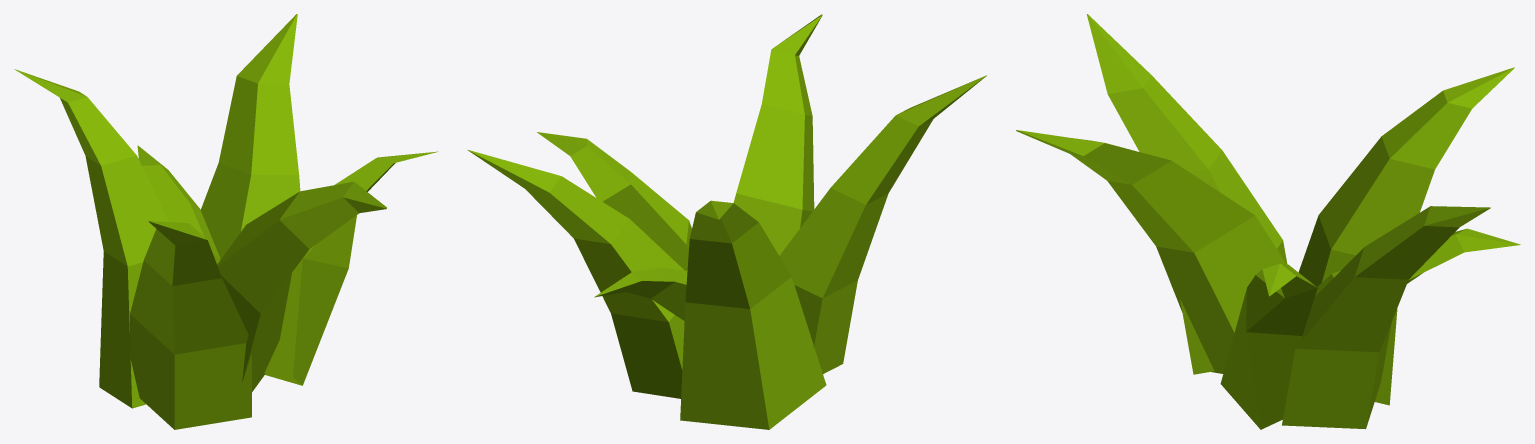
The model's file is Grass2.fbx.
3 renders of one model, left to right at view 1: azimuth 30°, elevation 25°; view 2: azimuth 150°, elevation 25°; view 3: azimuth 270°, elevation 25°, orthographic. The views are drawn at different scales.
Visible parts, largest first — view 1: Cube.003; view 2: Cube.003; view 3: Cube.003.
Boxes of the visible parts, x1=… form: Cube.003: x1=14, y1=14, x2=438, y2=429; Cube.003: x1=467, y1=14, x2=986, y2=429; Cube.003: x1=1016, y1=14, x2=1520, y2=429.
Bounding box in the file's own units: 33.37 × 24.66 × 37.07.
